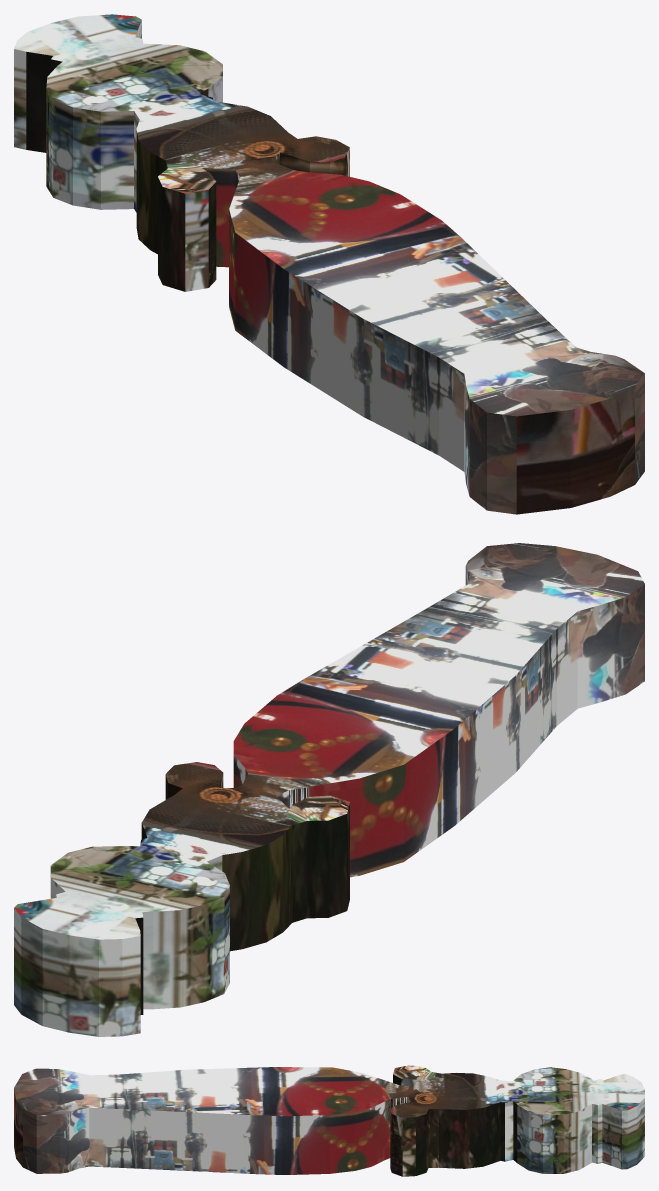
Rendered from red-candlestick-doll.fbx.
The picture shows the model from 3 angles, top to bottom: view 1: azimuth 30°, elevation 25°; view 2: azimuth 150°, elevation 25°; view 3: azimuth 270°, elevation 25°; orthographic projection. The views are drawn at different scales.
Parts seen in each view (by area): view 1: red_candlestick_doll; view 2: red_candlestick_doll; view 3: red_candlestick_doll.
Part boxes in pixels (x1,y1,x2,y2): red_candlestick_doll: [14, 14, 644, 514]; red_candlestick_doll: [14, 543, 644, 1036]; red_candlestick_doll: [14, 1065, 644, 1176].
Size of the model in its own units: 18.65 by 9.67 by 93.97.
